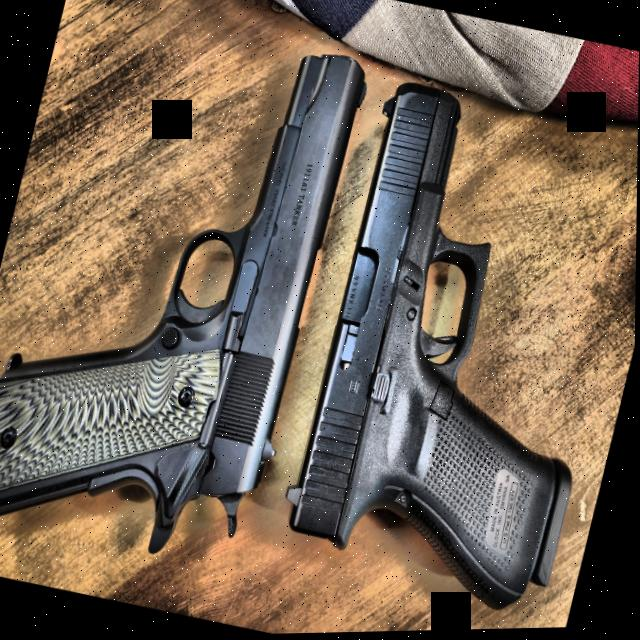Colt m1911: (0, 0, 374, 581)
